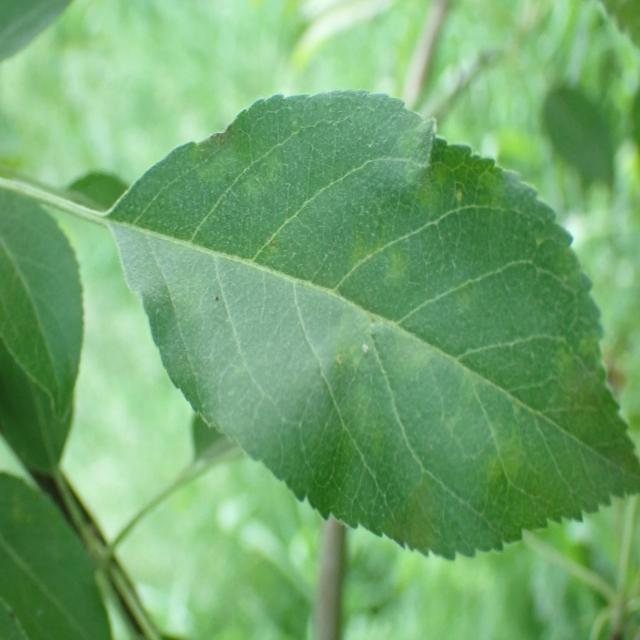scab: (121, 61, 617, 561)
